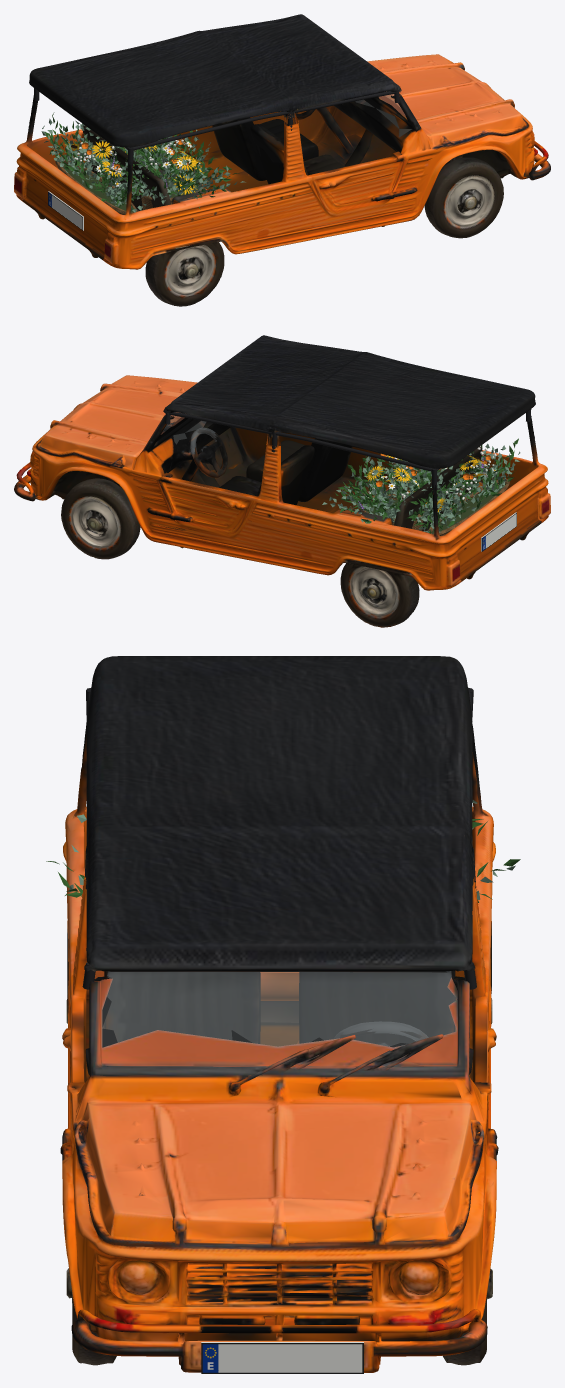
The model's file is mehari.glb.
3 renders of one model, top to bottom at view 1: azimuth 30°, elevation 25°; view 2: azimuth 150°, elevation 25°; view 3: azimuth 270°, elevation 25°, orthographic. The views are drawn at different scales.
Visible parts, largest first — view 1: Carroceria, Capota_Trasera, Capota_Delantera, Flores, Barras_Techo, Parabrisas; view 2: Carroceria, Capota_Trasera, Capota_Delantera, Flores, Barras_Techo, Parabrisas; view 3: Carroceria, Capota_Trasera, Capota_Delantera, Parabrisas.
Boxes of the visible parts, x1,y1,x2,y2 form: Carroceria: [14, 54, 550, 306]; Capota_Trasera: [29, 31, 292, 156]; Capota_Delantera: [198, 14, 401, 117]; Flores: [41, 112, 245, 214]; Barras_Techo: [125, 91, 395, 150]; Parabrisas: [356, 94, 411, 136]; Carroceria: [14, 375, 550, 627]; Capota_Trasera: [271, 352, 535, 480]; Capota_Delantera: [163, 335, 366, 438]; Flores: [322, 438, 520, 535]; Barras_Techo: [169, 412, 439, 471]; Parabrisas: [161, 412, 216, 457]; Carroceria: [60, 687, 498, 1373]; Capota_Trasera: [86, 656, 472, 848]; Capota_Delantera: [84, 824, 475, 971]; Parabrisas: [102, 971, 456, 1046].
Size of the model in its own units: 3.53 by 1.39 by 1.63.
13 materials, 3 textured.
